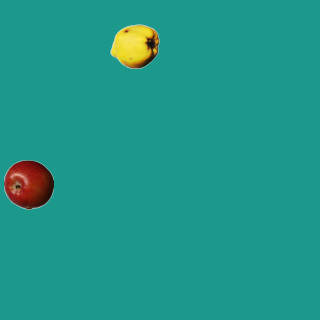Apple Braeburn: (3, 159, 53, 209)
Quince: (109, 21, 159, 71)
